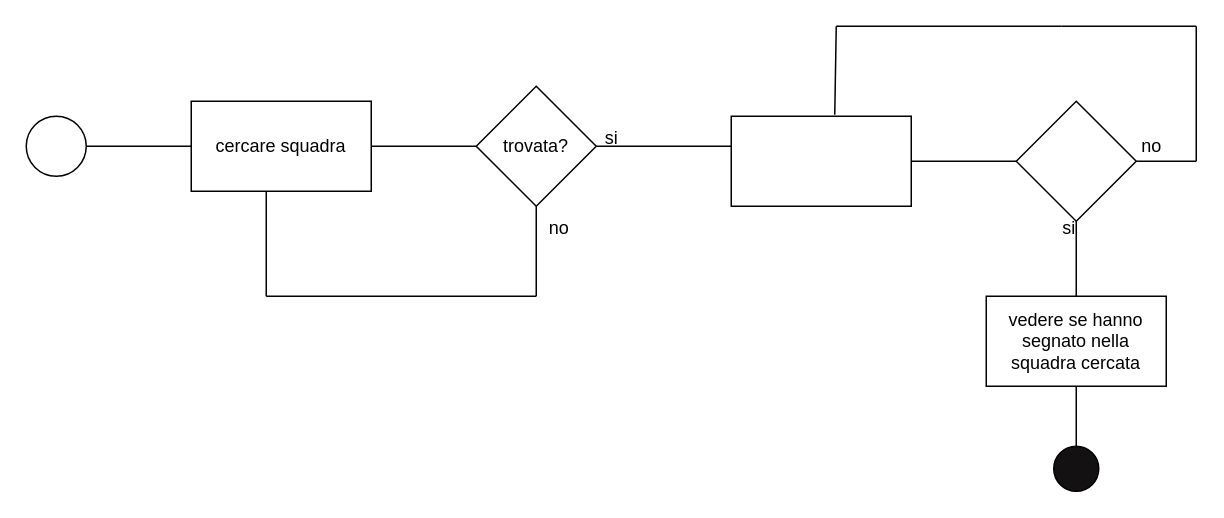
The diagram is 1224 pixels wide and 518 high, and some of its shapes have lost their labels. The box of each missing label's shape, as (x1, y1, x2, y2) in pixels:
cerca giocatori: (730, 115, 911, 206)
trovati?: (1015, 100, 1136, 221)
